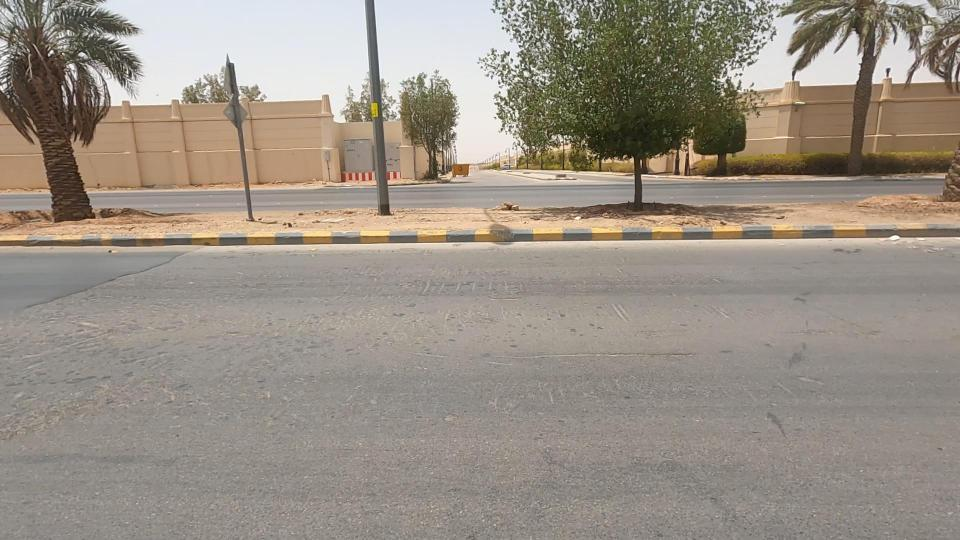GARBAGE: (548, 188, 607, 248)
